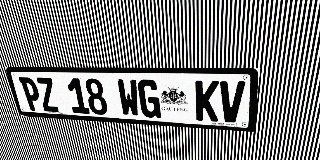1: (65, 78, 90, 114)
8: (84, 78, 108, 115)
G: (137, 79, 161, 118)
K: (195, 80, 219, 122)
P: (18, 77, 44, 111)
V: (219, 81, 245, 123)
W: (116, 79, 141, 117)
Z: (35, 78, 60, 112)
